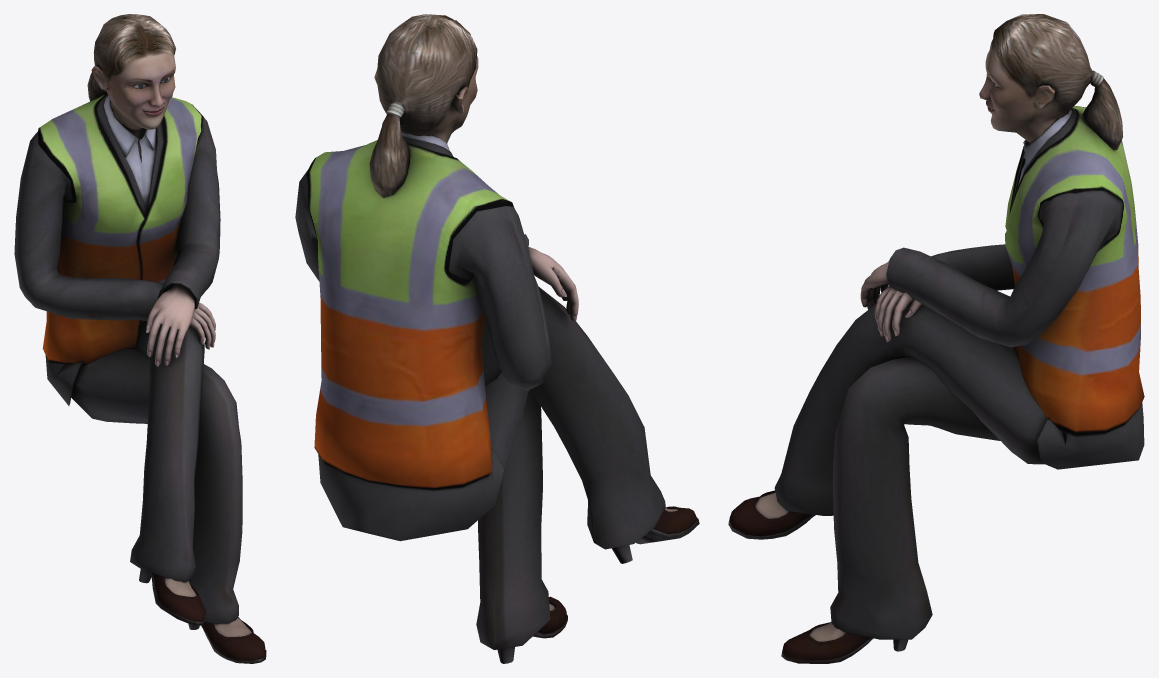
File: SWRK01_06_02.FBX
3 renders of one model, left to right at view 1: azimuth 30°, elevation 25°; view 2: azimuth 150°, elevation 25°; view 3: azimuth 270°, elevation 25°, orthographic. The views are drawn at different scales.
Parts seen in each view (by area): view 1: SWRK01_06_02; view 2: SWRK01_06_02; view 3: SWRK01_06_02.
Boxes of the visible parts, x1,y1,x2,y2 form: SWRK01_06_02: (14,14,266,663); SWRK01_06_02: (295,14,699,663); SWRK01_06_02: (728,14,1144,663).
Size of the model in its own units: 18.41 by 50.93 by 30.4.
Materials: 1 (1 with a texture image).
